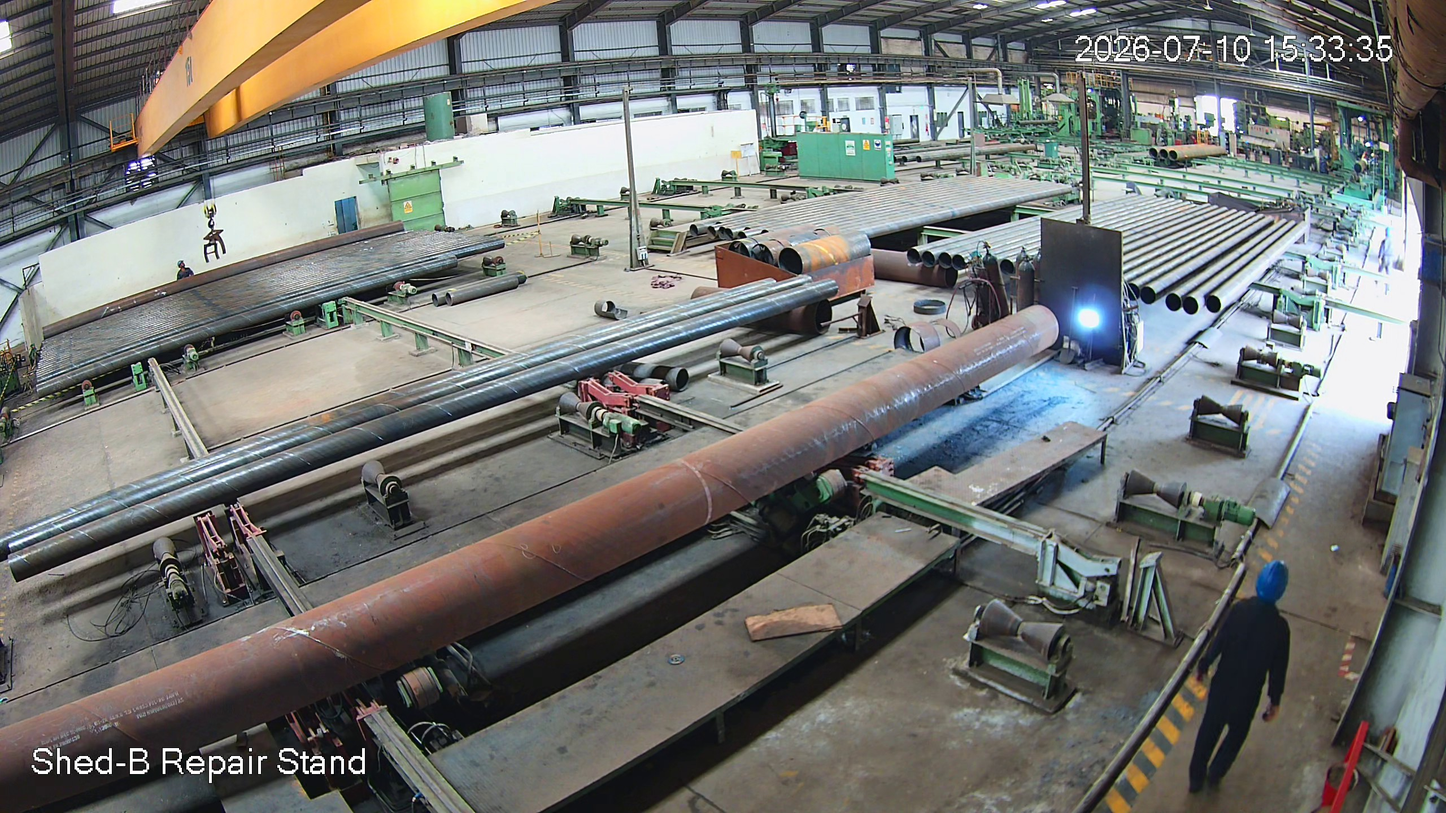Helmet: (1242, 544, 1304, 657)
Person: (1176, 562, 1327, 813)
